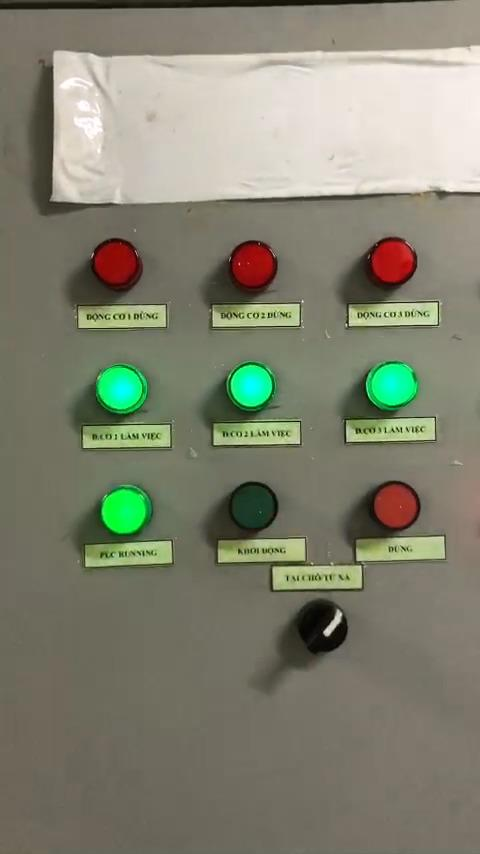led: (86, 229, 148, 291), (93, 356, 155, 418), (225, 235, 286, 296), (365, 479, 429, 536), (364, 356, 424, 416), (364, 232, 423, 290), (227, 356, 285, 415), (99, 481, 158, 539), (227, 479, 285, 536)
twist: (289, 595, 349, 657)
